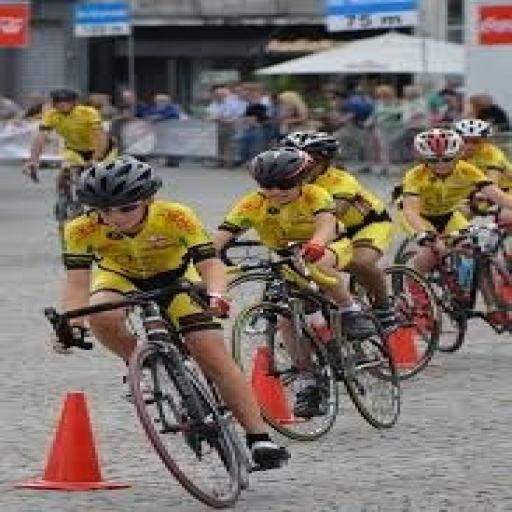cycling: (42, 154, 294, 474), (207, 145, 383, 419), (389, 126, 509, 328)
